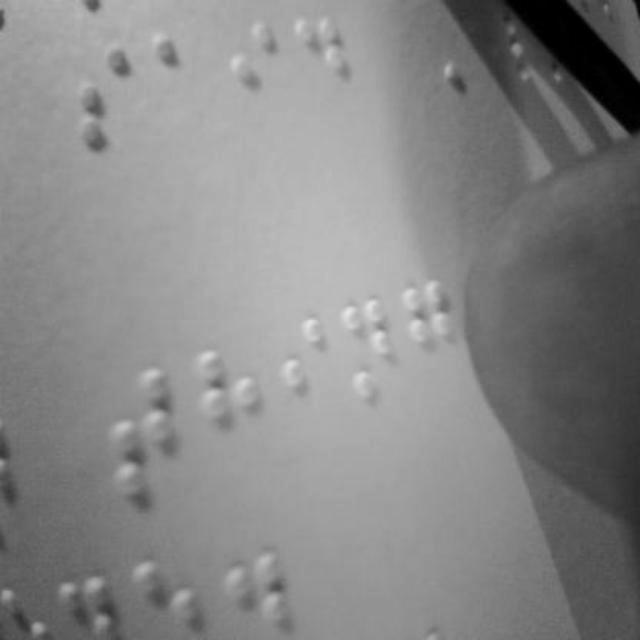braiile: (104, 362, 182, 503), (195, 340, 267, 464), (341, 286, 402, 422), (272, 312, 336, 438), (402, 268, 460, 392), (70, 36, 134, 148), (226, 15, 288, 121), (290, 8, 346, 108), (150, 26, 204, 126)
